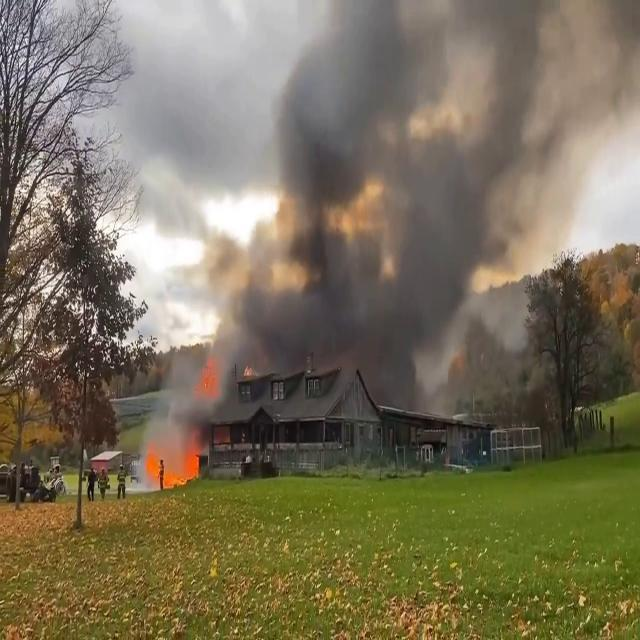Fire: (141, 432, 209, 493)
Smoke: (203, 0, 607, 395)
